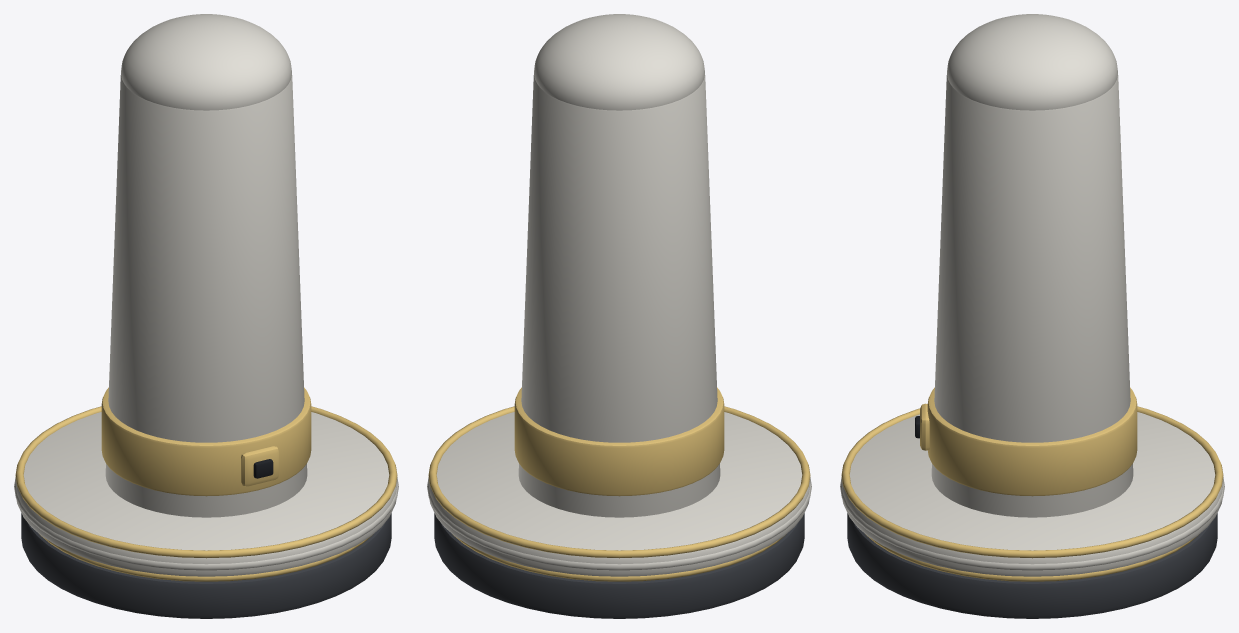
File: top_hat.glb
3 views of the same model, side by side, from view 1: azimuth 30°, elevation 25°; view 2: azimuth 150°, elevation 25°; view 3: azimuth 270°, elevation 25° (orthographic).
Parts seen in each view (by area): view 1: TOKEN_BODY, TOKEN_DETAILS, TOKEN_BASE; view 2: TOKEN_BODY, TOKEN_DETAILS, TOKEN_BASE; view 3: TOKEN_BODY, TOKEN_DETAILS, TOKEN_BASE.
Part boxes in pixels (x1=…): TOKEN_BODY: x1=14, y1=14, x2=398, y2=576; TOKEN_DETAILS: x1=15, y1=387, x2=397, y2=581; TOKEN_BASE: x1=21, y1=513, x2=391, y2=618; TOKEN_BODY: x1=427, y1=14, x2=811, y2=576; TOKEN_DETAILS: x1=428, y1=387, x2=810, y2=581; TOKEN_BASE: x1=434, y1=513, x2=804, y2=618; TOKEN_BODY: x1=840, y1=14, x2=1224, y2=576; TOKEN_DETAILS: x1=841, y1=387, x2=1223, y2=581; TOKEN_BASE: x1=847, y1=513, x2=1217, y2=618.
Bounding box in the file's own units: 0.27 × 0.4 × 0.27.
